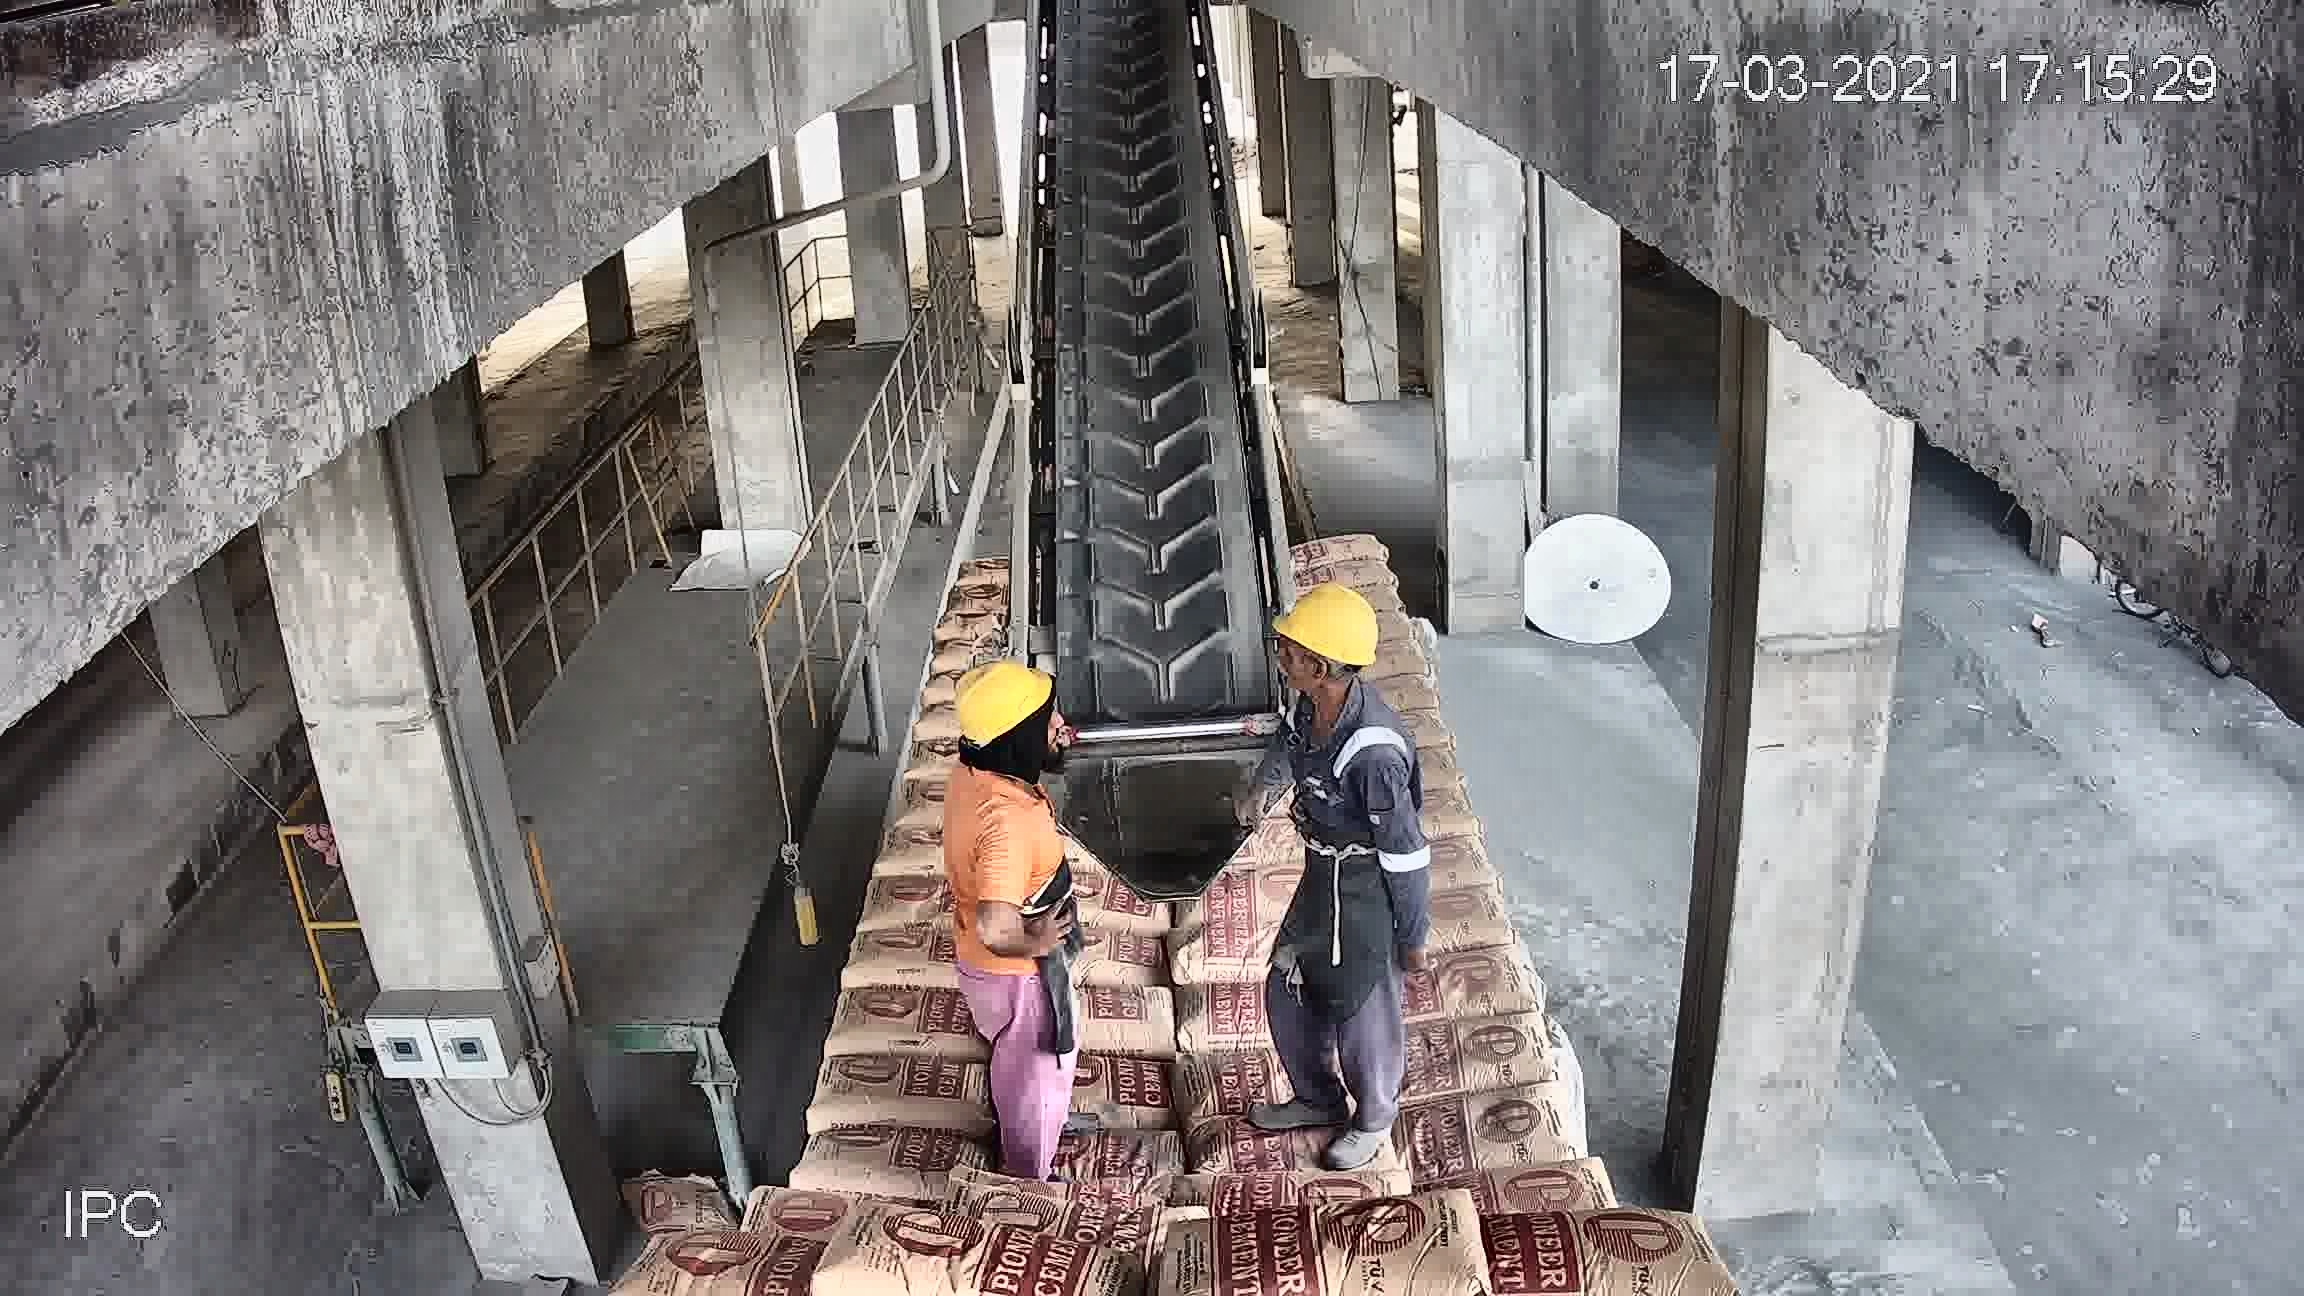bag_h: (809, 1222, 1109, 1294), (1408, 1074, 1601, 1176), (1383, 1014, 1573, 1112), (805, 1048, 1002, 1135), (642, 1225, 851, 1294), (786, 1130, 970, 1204), (1388, 956, 1544, 1032), (1002, 1128, 1184, 1192), (1060, 991, 1218, 1060), (1063, 1052, 1209, 1125), (1051, 929, 1203, 995), (834, 991, 965, 1062), (1196, 866, 1290, 938), (845, 929, 945, 995), (1431, 888, 1513, 951), (1176, 935, 1279, 984), (1290, 532, 1394, 573), (1293, 548, 1396, 589), (856, 873, 934, 926), (1291, 563, 1400, 589)
belt: (1008, 71, 1283, 791)
